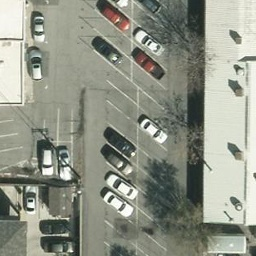car: (99, 144, 134, 175), (132, 48, 165, 79), (91, 36, 124, 67), (97, 1, 130, 31), (106, 172, 137, 200), (103, 188, 134, 216), (133, 29, 165, 54), (140, 117, 169, 143), (107, 129, 136, 155), (132, 1, 166, 18), (39, 216, 72, 233), (41, 237, 74, 254), (33, 14, 46, 44), (28, 49, 41, 79), (41, 146, 54, 176), (58, 148, 71, 178), (24, 185, 37, 215)
